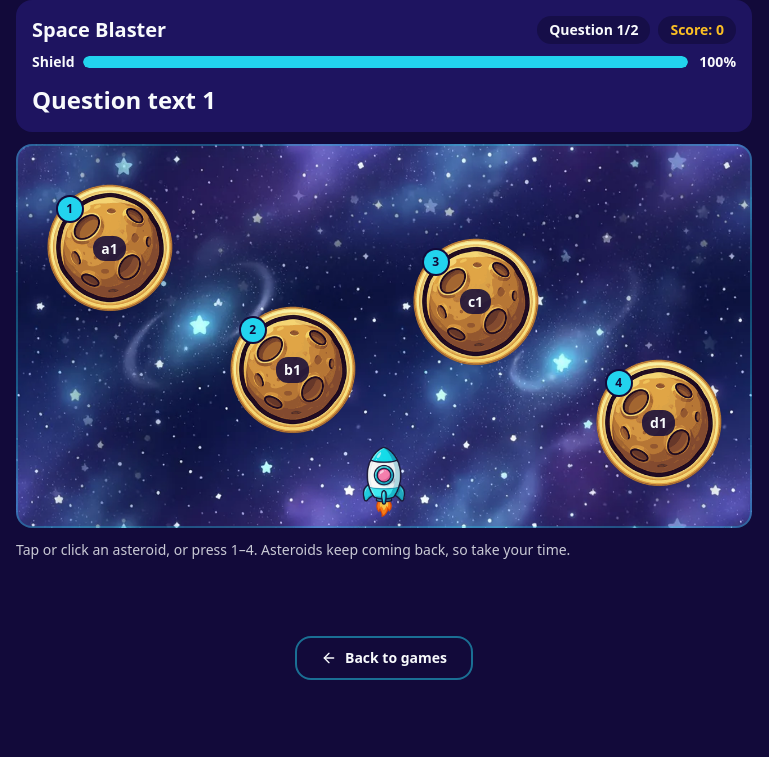
Scenario: SpaceBlaster › handles a correct pick and advances to the next question
Click the button with test id "asteroid" showing "a1 1": click(110, 248) x1=38 y1=176 x2=182 y2=320
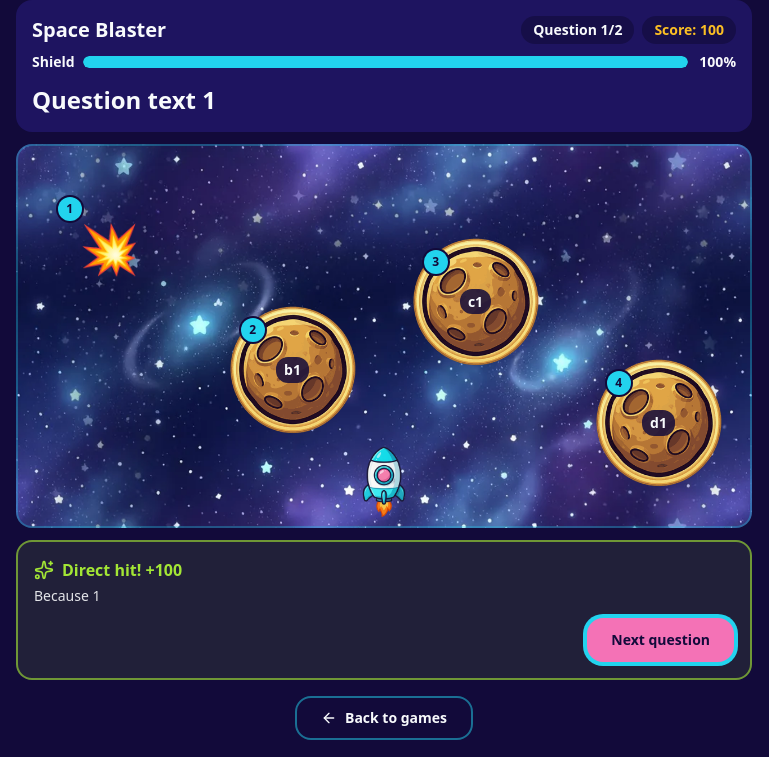
Check: the text "Direct hit! +100" is shown, box x1=34 y1=559 x2=182 y2=581
Check: the text "Because 1" is shown, box x1=34 y1=586 x2=100 y2=605
Check: the text "Score: 100" is shown, box x1=642 y1=16 x2=736 y2=44
Click the button "Next question": click(661, 640) x1=587 y1=618 x2=734 y2=662
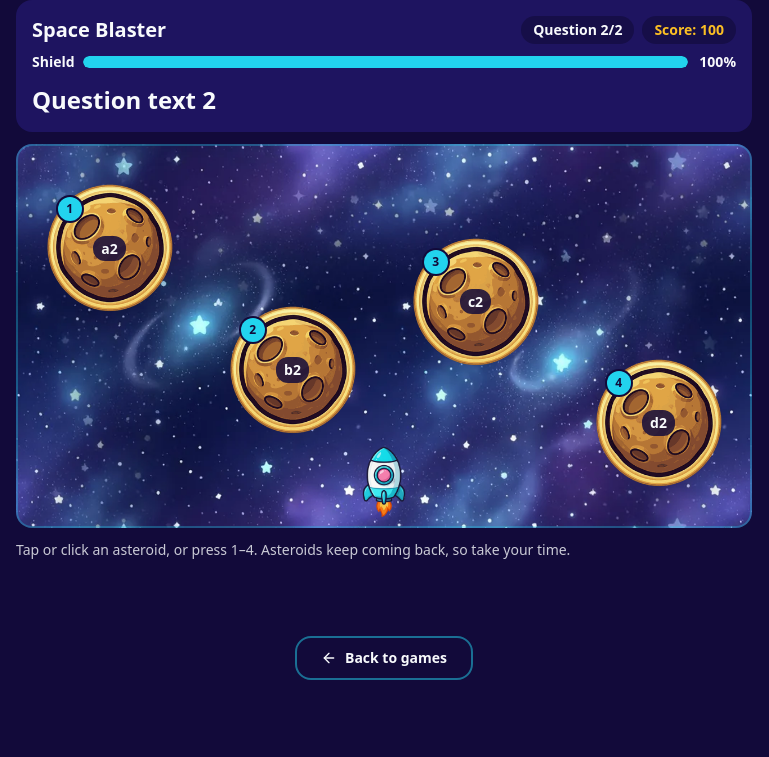
Check: the text "Question 2/2" is shown, box x1=521 y1=16 x2=634 y2=44
